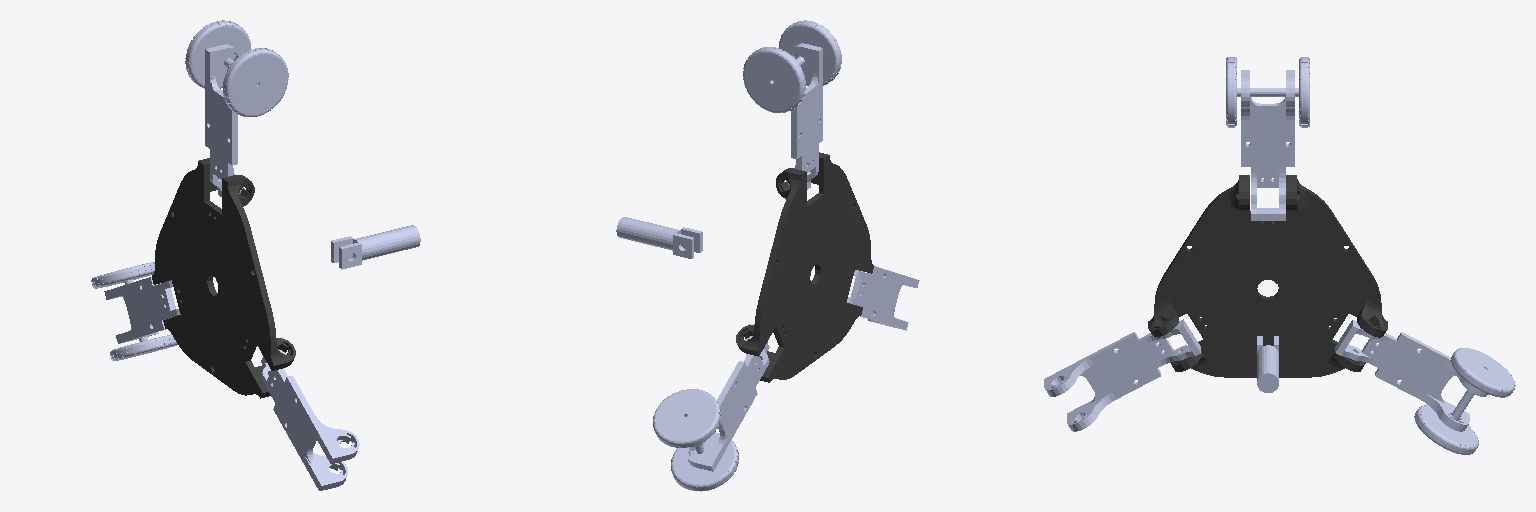
URDF robot description (segf_ver5):
<?xml version="1.0" encoding="utf-8"?>
<!-- This URDF was automatically created by SolidWorks to URDF Exporter! Originally created by [author] ([email redacted]) 
     Commit Version: 1.6.0-1-g15f4949  Build Version: 1.6.7594.29634
     For more information, please see http://wiki.ros.org/sw_urdf_exporter -->
<robot
  name="segf_ver5">
  <link
    name="base_link">
    <inertial>
      <origin
        xyz="0.0107631885751334 -0.196706606649359 0.125751388465178"
        rpy="0 0 0" />
      <mass
        value="0.0292481653022373" />
      <inertia
        ixx="3.88747734808681E-05"
        ixy="-3.06596509862462E-09"
        ixz="-5.98006564893274E-08"
        iyy="1.98637946417113E-05"
        iyz="-7.64627510959565E-10"
        izz="1.93056895699406E-05" />
    </inertial>
    <visual>
      <origin
        xyz="0 0 0"
        rpy="0 0 0" />
      <geometry>
        <mesh
          filename="package://segf_ver5/meshes/base_link.STL" />
      </geometry>
      <material
        name="">
        <color
          rgba="0.298039215686275 0.298039215686275 0.298039215686275 1" />
      </material>
    </visual>
    <collision>
      <origin
        xyz="0 0 0"
        rpy="0 0 0" />
      <geometry>
        <mesh
          filename="package://segf_ver5/meshes/base_link.STL" />
      </geometry>
    </collision>
  </link>
  <link
    name="sus1">
    <inertial>
      <origin
        xyz="0.0245281392565478 -0.00579743460623024 -0.00799999809102761"
        rpy="0 0 0" />
      <mass
        value="0.00484464615393237" />
      <inertia
        ixx="3.44953495510738E-07"
        ixy="5.10613042897034E-08"
        ixz="1.27802152202565E-14"
        iyy="2.31225028349891E-06"
        iyz="2.19478513595474E-14"
        izz="2.08649864683354E-06" />
    </inertial>
    <visual>
      <origin
        xyz="0 0 0"
        rpy="0 0 0" />
      <geometry>
        <mesh
          filename="package://segf_ver5/meshes/sus1.STL" />
      </geometry>
      <material
        name="">
        <color
          rgba="0.792156862745098 0.819607843137255 0.933333333333333 1" />
      </material>
    </visual>
    <collision>
      <origin
        xyz="0 0 0"
        rpy="0 0 0" />
      <geometry>
        <mesh
          filename="package://segf_ver5/meshes/sus1.STL" />
      </geometry>
    </collision>
  </link>
  <joint
    name="sus1r"
    type="revolute">
    <origin
      xyz="0.020949 -0.28148 0.067161"
      rpy="3.1416 -0.5236 1.5708" />
    <parent
      link="base_link" />
    <child
      link="sus1" />
    <axis
      xyz="0 0 1" />
    <limit
      lower="0"
      upper="0"
      effort="0"
      velocity="0" />
  </joint>
  <link
    name="w1">
    <inertial>
      <origin
        xyz="5.22216991871716E-12 0.0109999999662131 1.83967285849462E-11"
        rpy="0 0 0" />
      <mass
        value="0.00802564595067572" />
      <inertia
        ixx="2.63042675367951E-06"
        ixy="-7.55275654788365E-16"
        ixz="6.57318901711696E-16"
        iyy="9.68771865572928E-07"
        iyz="-1.40328657761713E-15"
        izz="2.63042674934207E-06" />
    </inertial>
    <visual>
      <origin
        xyz="0 0 0"
        rpy="0 0 0" />
      <geometry>
        <mesh
          filename="package://segf_ver5/meshes/w1.STL" />
      </geometry>
      <material
        name="">
        <color
          rgba="0.792156862745098 0.819607843137255 0.933333333333333 1" />
      </material>
    </visual>
    <collision>
      <origin
        xyz="0 0 0"
        rpy="0 0 0" />
      <geometry>
        <mesh
          filename="package://segf_ver5/meshes/w1.STL" />
      </geometry>
    </collision>
  </link>
  <joint
    name="w1c"
    type="continuous">
    <origin
      xyz="0 0 -0.019"
      rpy="1.5708 0 -1.0993" />
    <parent
      link="sus1" />
    <child
      link="w1" />
    <axis
      xyz="0 1 0" />
  </joint>
  <link
    name="sus2">
    <inertial>
      <origin
        xyz="0.0245281388862843 -0.00579743458596982 -0.00799999408218524"
        rpy="0 0 0" />
      <mass
        value="0.00484464622012381" />
      <inertia
        ixx="3.44953504540437E-07"
        ixy="5.10613036903035E-08"
        ixz="1.55592500677966E-13"
        iyy="2.31225031988856E-06"
        iyz="4.30376878639342E-14"
        izz="2.0864986737292E-06" />
    </inertial>
    <visual>
      <origin
        xyz="0 0 0"
        rpy="0 0 0" />
      <geometry>
        <mesh
          filename="package://segf_ver5/meshes/sus2.STL" />
      </geometry>
      <material
        name="">
        <color
          rgba="0.792156862745098 0.819607843137255 0.933333333333333 1" />
      </material>
    </visual>
    <collision>
      <origin
        xyz="0 0 0"
        rpy="0 0 0" />
      <geometry>
        <mesh
          filename="package://segf_ver5/meshes/sus2.STL" />
      </geometry>
    </collision>
  </link>
  <joint
    name="sus2r"
    type="revolute">
    <origin
      xyz="0.020949 -0.10396 0.081018"
      rpy="0 -0.5236 -1.5708" />
    <parent
      link="base_link" />
    <child
      link="sus2" />
    <axis
      xyz="0 0 1" />
    <limit
      lower="0"
      upper="0"
      effort="0"
      velocity="0" />
  </joint>
  <link
    name="w2">
    <inertial>
      <origin
        xyz="5.21314935664208E-12 0.0109999999660882 1.84374460143744E-11"
        rpy="0 0 0" />
      <mass
        value="0.00802564595064063" />
      <inertia
        ixx="2.63042675366783E-06"
        ixy="-7.55284363345854E-16"
        ixz="6.57278191190669E-16"
        iyy="9.6877186556785E-07"
        iyz="-1.39968951985772E-15"
        izz="2.63042674933547E-06" />
    </inertial>
    <visual>
      <origin
        xyz="0 0 0"
        rpy="0 0 0" />
      <geometry>
        <mesh
          filename="package://segf_ver5/meshes/w2.STL" />
      </geometry>
      <material
        name="">
        <color
          rgba="0.792156862745098 0.819607843137255 0.933333333333333 1" />
      </material>
    </visual>
    <collision>
      <origin
        xyz="0 0 0"
        rpy="0 0 0" />
      <geometry>
        <mesh
          filename="package://segf_ver5/meshes/w2.STL" />
      </geometry>
    </collision>
  </link>
  <joint
    name="w2c"
    type="continuous">
    <origin
      xyz="0 0 -0.019"
      rpy="1.5708 0 -1.0993" />
    <parent
      link="sus2" />
    <child
      link="w2" />
    <axis
      xyz="0 1 0" />
  </joint>
  <link
    name="sus3">
    <inertial>
      <origin
        xyz="0.0245281427339185 -0.00579743476204341 -0.00799999583699243"
        rpy="0 0 0" />
      <mass
        value="0.00484464531506038" />
      <inertia
        ixx="3.44953306450567E-07"
        ixy="5.10613156648366E-08"
        ixz="7.85719483001869E-14"
        iyy="2.31224993634185E-06"
        iyz="3.48701370308909E-14"
        izz="2.08649849059194E-06" />
    </inertial>
    <visual>
      <origin
        xyz="0 0 0"
        rpy="0 0 0" />
      <geometry>
        <mesh
          filename="package://segf_ver5/meshes/sus3.STL" />
      </geometry>
      <material
        name="">
        <color
          rgba="0.792156862745098 0.819607843137255 0.933333333333333 1" />
      </material>
    </visual>
    <collision>
      <origin
        xyz="0 0 0"
        rpy="0 0 0" />
      <geometry>
        <mesh
          filename="package://segf_ver5/meshes/sus3.STL" />
      </geometry>
    </collision>
  </link>
  <joint
    name="sus3r"
    type="revolute">
    <origin
      xyz="0.020949 -0.20472 0.22783"
      rpy="1.5708 1.5708 0" />
    <parent
      link="base_link" />
    <child
      link="sus3" />
    <axis
      xyz="0 0 1" />
    <limit
      lower="0"
      upper="0"
      effort="0"
      velocity="0" />
  </joint>
  <link
    name="w3">
    <inertial>
      <origin
        xyz="5.21754861537715E-12 0.0109999999661513 1.84169901551456E-11"
        rpy="0 0 0" />
      <mass
        value="0.00802564595065764" />
      <inertia
        ixx="2.63042675367367E-06"
        ixy="-7.552674074126E-16"
        ixz="6.57297037673746E-16"
        iyy="9.6877186557038E-07"
        iyz="-1.40145231975051E-15"
        izz="2.63042674933879E-06" />
    </inertial>
    <visual>
      <origin
        xyz="0 0 0"
        rpy="0 0 0" />
      <geometry>
        <mesh
          filename="package://segf_ver5/meshes/w3.STL" />
      </geometry>
      <material
        name="">
        <color
          rgba="0.792156862745098 0.819607843137255 0.933333333333333 1" />
      </material>
    </visual>
    <collision>
      <origin
        xyz="0 0 0"
        rpy="0 0 0" />
      <geometry>
        <mesh
          filename="package://segf_ver5/meshes/w3.STL" />
      </geometry>
    </collision>
  </link>
  <joint
    name="w3c"
    type="continuous">
    <origin
      xyz="0 0 -0.019"
      rpy="1.5708 0 -1.0993" />
    <parent
      link="sus3" />
    <child
      link="w3" />
    <axis
      xyz="0 1 0" />
  </joint>
  <link
    name="con1">
    <inertial>
      <origin
        xyz="0.0150000000000001 -8.32667268468867E-17 -1.52655665885959E-16"
        rpy="0 0 0" />
      <mass
        value="0.00235619449019234" />
      <inertia
        ixx="2.94524311274043E-08"
        ixy="4.86347831101101E-22"
        ixz="1.21907854063494E-21"
        iyy="1.91440802328128E-07"
        iyz="0"
        izz="1.91440802328128E-07" />
    </inertial>
    <visual>
      <origin
        xyz="0 0 0"
        rpy="0 0 0" />
      <geometry>
        <mesh
          filename="package://segf_ver5/meshes/con1.STL" />
      </geometry>
      <material
        name="">
        <color
          rgba="0.792156862745098 0.819607843137255 0.933333333333333 1" />
      </material>
    </visual>
    <collision>
      <origin
        xyz="0 0 0"
        rpy="0 0 0" />
      <geometry>
        <mesh
          filename="package://segf_ver5/meshes/con1.STL" />
      </geometry>
    </collision>
  </link>
  <joint
    name="con1f"
    type="fixed">
    <origin
      xyz="0.011619 -0.19672 0.12534"
      rpy="3.0572 0 0" />
    <parent
      link="base_link" />
    <child
      link="con1" />
    <axis
      xyz="0 0 0" />
  </joint>
  <link
    name="con2">
    <inertial>
      <origin
        xyz="1.11022302462516E-16 0.0481300493614309 -1.38777878078145E-16"
        rpy="0 0 0" />
      <mass
        value="0.00279336263712055" />
      <inertia
        ixx="3.47148573143988E-07"
        ixy="-3.21511274135959E-22"
        ixz="6.21799707082768E-24"
        iyy="3.99316347503688E-08"
        iyz="1.06387502614631E-21"
        izz="3.49420107139763E-07" />
    </inertial>
    <visual>
      <origin
        xyz="0 0 0"
        rpy="0 0 0" />
      <geometry>
        <mesh
          filename="package://segf_ver5/meshes/con2.STL" />
      </geometry>
      <material
        name="">
        <color
          rgba="0.792156862745098 0.819607843137255 0.933333333333333 1" />
      </material>
    </visual>
    <collision>
      <origin
        xyz="0 0 0"
        rpy="0 0 0" />
      <geometry>
        <mesh
          filename="package://segf_ver5/meshes/con2.STL" />
      </geometry>
    </collision>
  </link>
  <joint
    name="con2p"
    type="prismatic">
    <origin
      xyz="0 0 0"
      rpy="0 -1.4864 -1.5708" />
    <parent
      link="con1" />
    <child
      link="con2" />
    <axis
      xyz="0 -1 0" />
    <limit
      lower="0"
      upper="0"
      effort="0"
      velocity="0" />
  </joint>
  <link
    name="uni">
    <inertial>
      <origin
        xyz="-1.38777878078145E-17 1.92840424184659E-09 1.92840413082429E-09"
        rpy="0 0 0" />
      <mass
        value="0.000271492148155946" />
      <inertia
        ixx="5.93557661395575E-09"
        ixy="4.47220671665863E-15"
        ixz="-4.4722067162952E-15"
        iyy="3.20070578284846E-09"
        iyz="1.00786068067321E-21"
        izz="3.20070578284845E-09" />
    </inertial>
    <visual>
      <origin
        xyz="0 0 0"
        rpy="0 0 0" />
      <geometry>
        <mesh
          filename="package://segf_ver5/meshes/uni.STL" />
      </geometry>
      <material
        name="">
        <color
          rgba="0.792156862745098 0.819607843137255 0.933333333333333 1" />
      </material>
    </visual>
    <collision>
      <origin
        xyz="0 0 0"
        rpy="0 0 0" />
      <geometry>
        <mesh
          filename="package://segf_ver5/meshes/uni.STL" />
      </geometry>
    </collision>
  </link>
  <joint
    name="unir"
    type="revolute">
    <origin
      xyz="0 0.065 0"
      rpy="0 0 1.5708" />
    <parent
      link="con2" />
    <child
      link="uni" />
    <axis
      xyz="0 -1 0" />
    <limit
      lower="-1.6"
      upper="1.6"
      effort="0"
      velocity="0" />
  </joint>
  <link
    name="con3">
    <inertial>
      <origin
        xyz="0.0168699506385691 -7.49400541621981E-16 5.55111512312578E-16"
        rpy="0 0 0" />
      <mass
        value="0.00279336263712055" />
      <inertia
        ixx="3.99316347503688E-08"
        ixy="-2.21483432703863E-21"
        ixz="9.94359727654743E-22"
        iyy="3.49420107139762E-07"
        iyz="2.21321679635667E-23"
        izz="3.47148573143988E-07" />
    </inertial>
    <visual>
      <origin
        xyz="0 0 0"
        rpy="0 0 0" />
      <geometry>
        <mesh
          filename="package://segf_ver5/meshes/con3.STL" />
      </geometry>
      <material
        name="">
        <color
          rgba="0.792156862745098 0.819607843137255 0.933333333333333 1" />
      </material>
    </visual>
    <collision>
      <origin
        xyz="0 0 0"
        rpy="0 0 0" />
      <geometry>
        <mesh
          filename="package://segf_ver5/meshes/con3.STL" />
      </geometry>
    </collision>
  </link>
  <joint
    name="con3r"
    type="revolute">
    <origin
      xyz="0 0 0"
      rpy="0 0 0" />
    <parent
      link="uni" />
    <child
      link="con3" />
    <axis
      xyz="0 0 -1" />
    <limit
      lower="-1.6"
      upper="1.6"
      effort="0"
      velocity="0" />
  </joint>
  <link
    name="con4">
    <inertial>
      <origin
        xyz="-0.0180000000000001 6.66133814775094E-16 3.88578058618805E-16"
        rpy="0 0 0" />
      <mass
        value="0.00235619449019234" />
      <inertia
        ixx="2.94524311274043E-08"
        ixy="-1.1574339151654E-21"
        ixz="-6.82310798372854E-22"
        iyy="1.91440802328128E-07"
        iyz="0"
        izz="1.91440802328128E-07" />
    </inertial>
    <visual>
      <origin
        xyz="0 0 0"
        rpy="0 0 0" />
      <geometry>
        <mesh
          filename="package://segf_ver5/meshes/con4.STL" />
      </geometry>
      <material
        name="">
        <color
          rgba="0.792156862745098 0.819607843137255 0.933333333333333 1" />
      </material>
    </visual>
    <collision>
      <origin
        xyz="0 0 0"
        rpy="0 0 0" />
      <geometry>
        <mesh
          filename="package://segf_ver5/meshes/con4.STL" />
      </geometry>
    </collision>
  </link>
  <joint
    name="con4p"
    type="prismatic">
    <origin
      xyz="0.068 0 0"
      rpy="-0.9827 0 0" />
    <parent
      link="con3" />
    <child
      link="con4" />
    <axis
      xyz="-1 0 0" />
    <limit
      lower="0"
      upper="0"
      effort="0"
      velocity="0" />
  </joint>
</robot>

--- Facts derived from the render (not from the file) ---
Views: 3 orthographic renders of the robot side by side, from view 1: azimuth 30°, elevation 25°; view 2: azimuth 150°, elevation 25°; view 3: azimuth 270°, elevation 25°.
Robot: segf_ver5 — 12 links, 11 joints (5 revolute, 3 continuous, 2 prismatic, 1 fixed); root link base_link; default pose: every joint at zero.
Visible links, largest first — view 1: base_link, w3, sus1, sus3, sus2, con3, w2; view 2: base_link, w3, w2, sus2, sus3, sus1, con3; view 3: base_link, sus1, sus2, sus3, w2, w3, con3.
Link boxes in pixels (x1,y1,x2,y2): base_link: (152,158,295,398); w3: (185,20,288,116); sus1: (261,337,359,490); sus3: (205,44,248,204); sus2: (104,277,180,343); con3: (331,225,420,269); w2: (91,262,177,360); base_link: (736,152,873,382); w3: (743,20,841,112); w2: (653,389,738,491); sus2: (686,324,769,471); sus3: (781,43,822,196); sus1: (847,266,919,330); con3: (616,217,702,258); base_link: (1148,175,1387,377); sus1: (1044,319,1200,431); sus2: (1335,320,1487,431); sus3: (1241,70,1294,220); w2: (1414,348,1515,454); w3: (1226,57,1309,127); con3: (1257,336,1278,392).
Bounding box of the posed robot: 0.1067 × 0.2124 × 0.1936 m (x, y, z).
7 mesh visuals loaded from 12 distinct referenced files (7 binary STL); not drawn: 5 (reference not matched to a file when rendering).